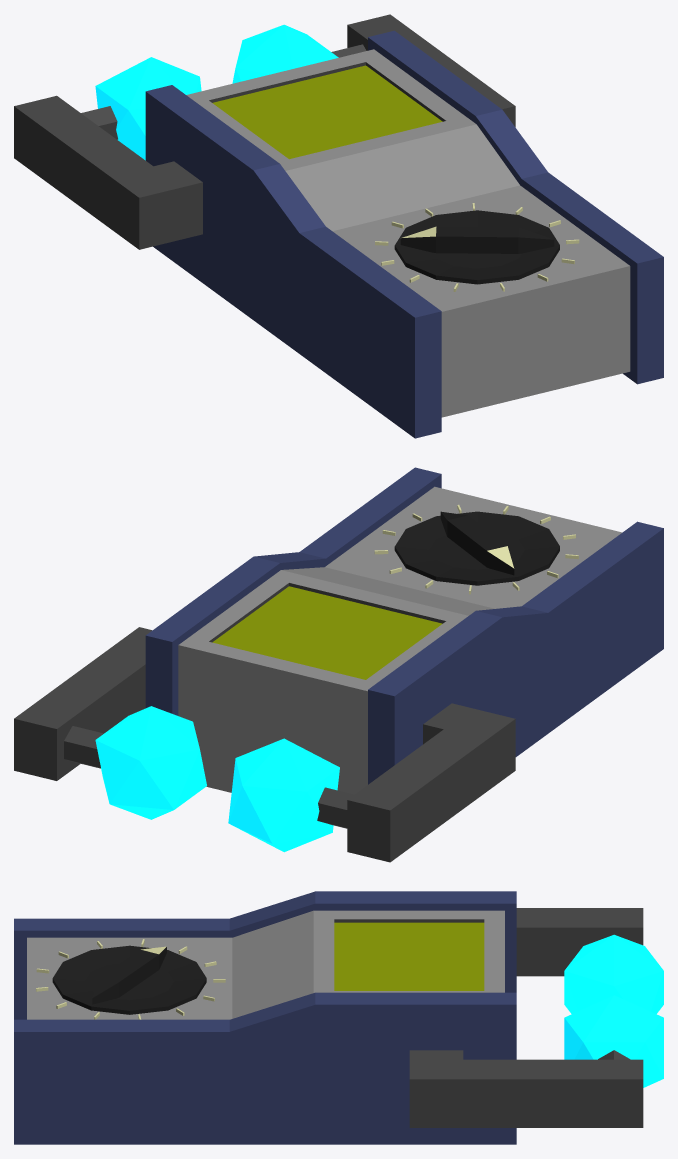
Rendered from Gravitometre.fbx.
3 views of the same model, one above another, from view 1: azimuth 30°, elevation 25°; view 2: azimuth 150°, elevation 25°; view 3: azimuth 270°, elevation 25° (orthographic). The views are drawn at different scales.
Parts seen in each view (by area): view 1: Gravitometre, Gravitometre_screen; view 2: Gravitometre, Gravitometre_screen; view 3: Gravitometre, Gravitometre_screen.
Part boxes in pixels (bbox=[...]): Gravitometre: bbox=[14, 14, 663, 438]; Gravitometre_screen: bbox=[212, 65, 442, 159]; Gravitometre: bbox=[14, 467, 663, 862]; Gravitometre_screen: bbox=[212, 586, 442, 679]; Gravitometre: bbox=[14, 891, 663, 1144]; Gravitometre_screen: bbox=[334, 922, 484, 990].
Bounding box in the file's own units: 13.14 × 5 × 21.08.
